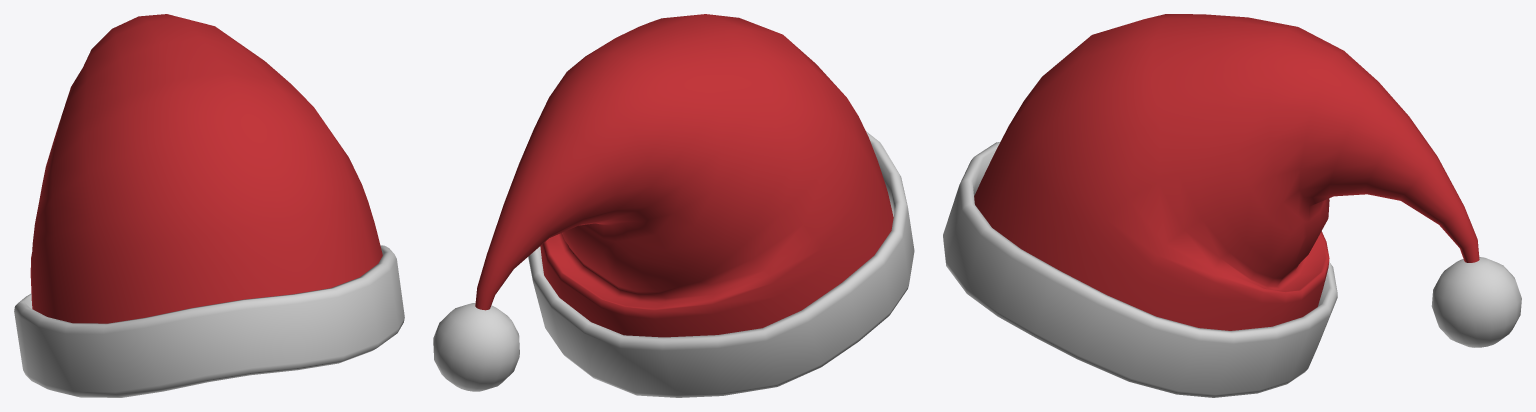
The picture shows the model from 3 angles, left to right: view 1: azimuth 30°, elevation 25°; view 2: azimuth 150°, elevation 25°; view 3: azimuth 270°, elevation 25°; orthographic projection. The views are drawn at different scales.
Parts seen in each view (by area): view 1: hatSanta; view 2: hatSanta; view 3: hatSanta.
Part boxes in pixels (bbox=[...]): hatSanta: bbox=[14, 14, 404, 397]; hatSanta: bbox=[433, 14, 914, 397]; hatSanta: bbox=[943, 14, 1521, 397].
Size of the model in its own units: 0.5103 by 0.471 by 0.7504.
2 materials, 2 textured.
